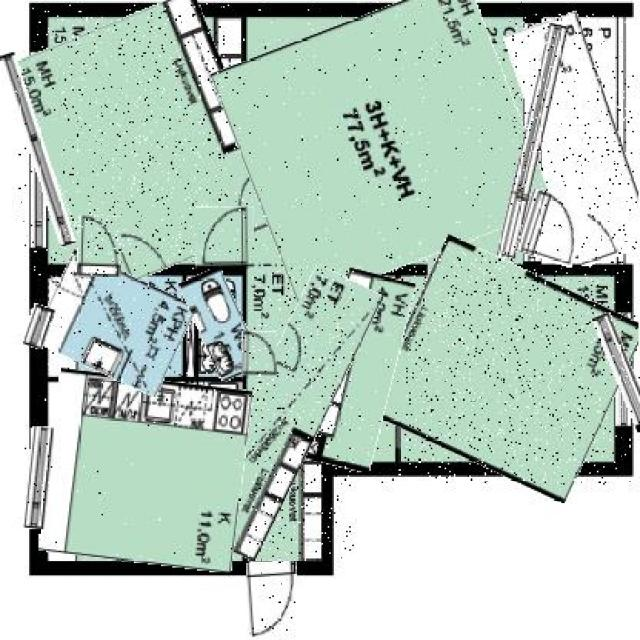door: (519, 192, 586, 265), (195, 206, 254, 269), (250, 560, 298, 637), (78, 215, 120, 277), (241, 331, 277, 378)
window: (511, 22, 554, 260), (16, 51, 62, 248), (603, 311, 640, 432), (25, 428, 52, 529), (25, 305, 52, 349)
zone: (228, 0, 537, 283), (31, 3, 264, 279), (383, 252, 632, 485), (218, 266, 354, 562), (44, 372, 248, 568), (523, 13, 637, 264), (40, 262, 191, 386), (316, 271, 404, 469), (190, 269, 252, 380)
